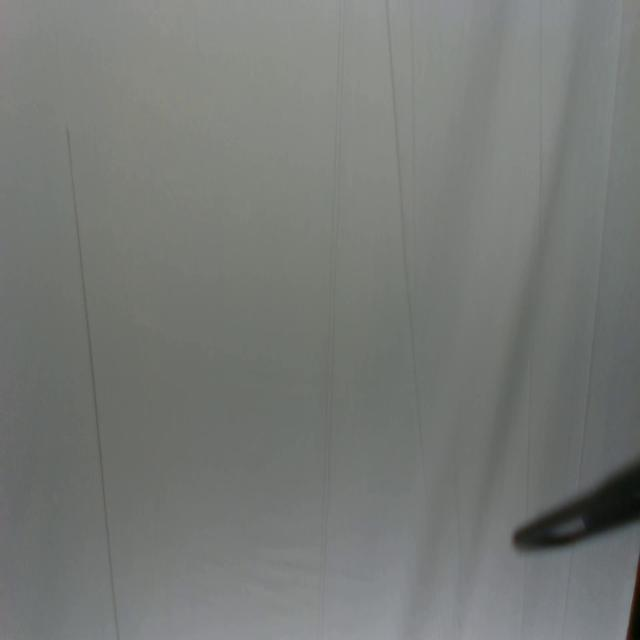crease: (65, 124, 121, 640), (382, 0, 428, 480), (580, 0, 626, 457), (318, 0, 348, 639), (537, 0, 546, 238), (524, 365, 537, 519)
